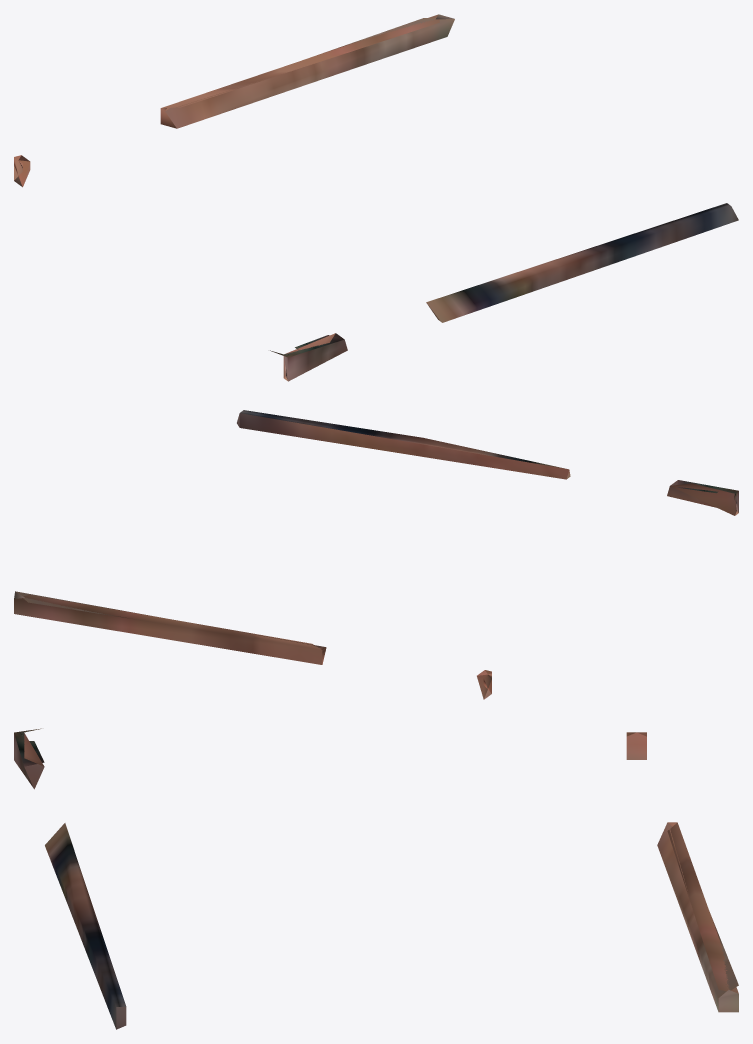
The picture shows the model from 3 angles, top to bottom: view 1: azimuth 30°, elevation 25°; view 2: azimuth 150°, elevation 25°; view 3: azimuth 270°, elevation 25°; orthographic projection. The views are drawn at different scales.
Parts seen in each view (by area): view 1: 3043627270437042727_0; view 2: 3043627270437042727_0; view 3: 3043627270437042727_0.
Part boxes in pixels (x1,y1,x2,y2): 3043627270437042727_0: (14,14,738,381); 3043627270437042727_0: (14,410,738,699); 3043627270437042727_0: (14,728,738,1029).
Size of the model in its own units: 20.25 by 0.9312 by 21.91.
Materials: 1 (1 with a texture image).
